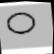no answer: (3, 8, 39, 39)
